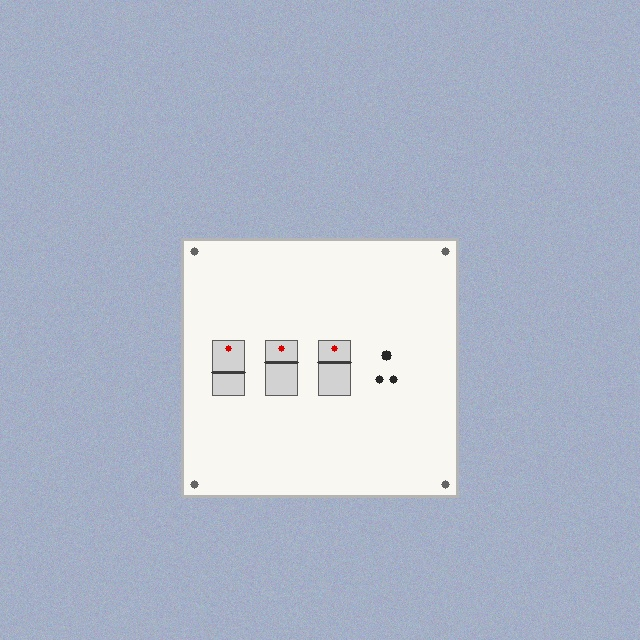switchboard: (182, 239, 457, 496)
